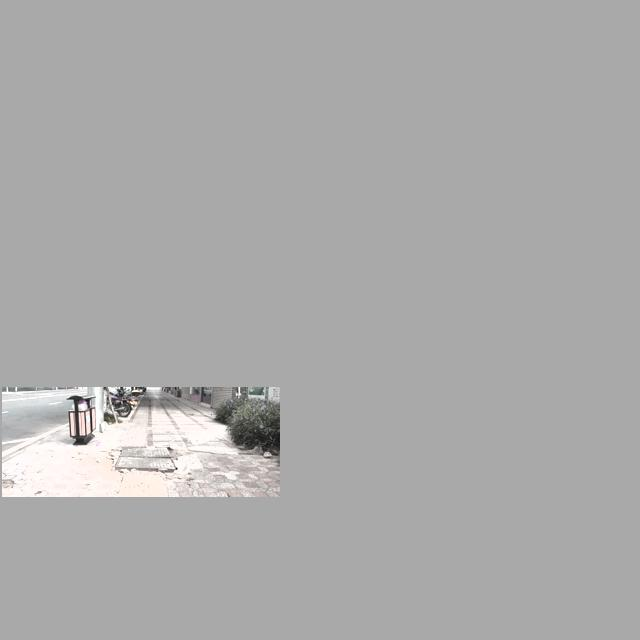circle: (97, 439, 189, 484)
